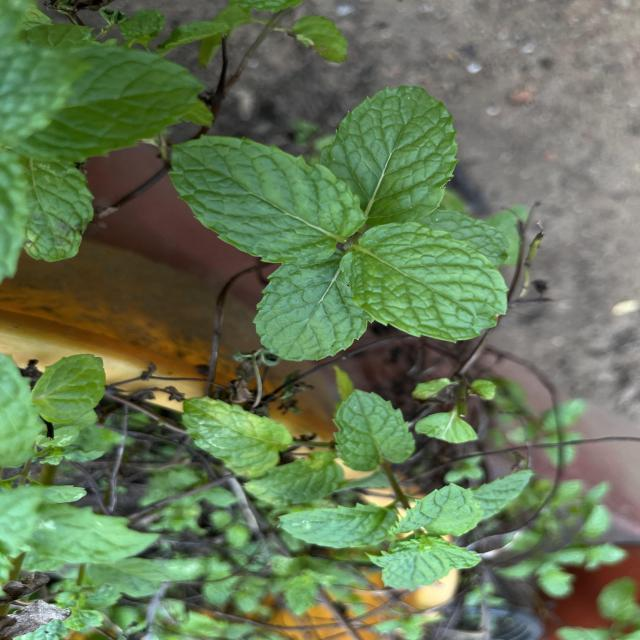Mentha spicata: (166, 132, 370, 266), (339, 221, 510, 345), (318, 84, 462, 222), (251, 263, 375, 363), (330, 388, 418, 472)
